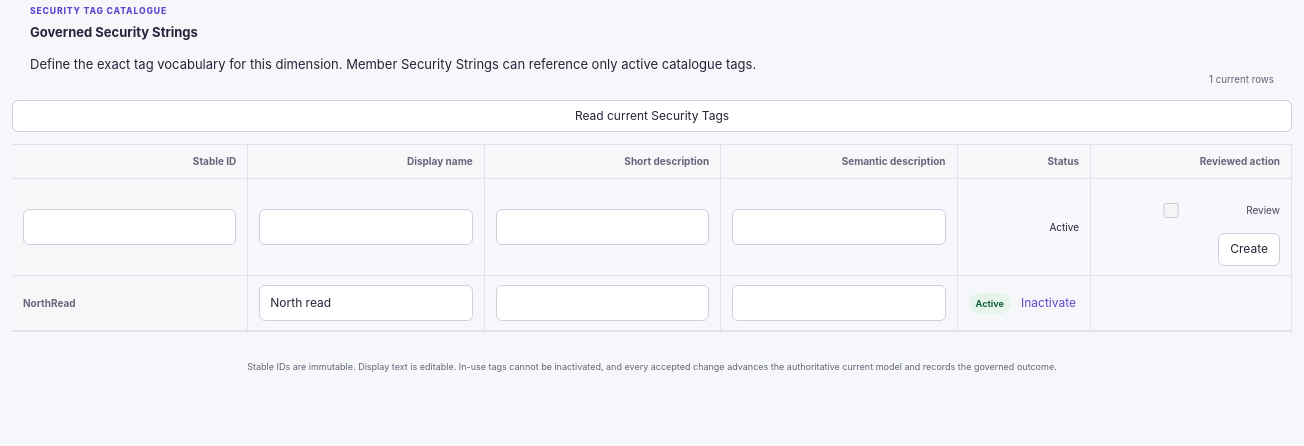
Scenario: keeps a tag active and explains a definite dependency refusal
Step 1. Click the button "Inactivate" → (1048, 303), box [1018,292,1079,314]
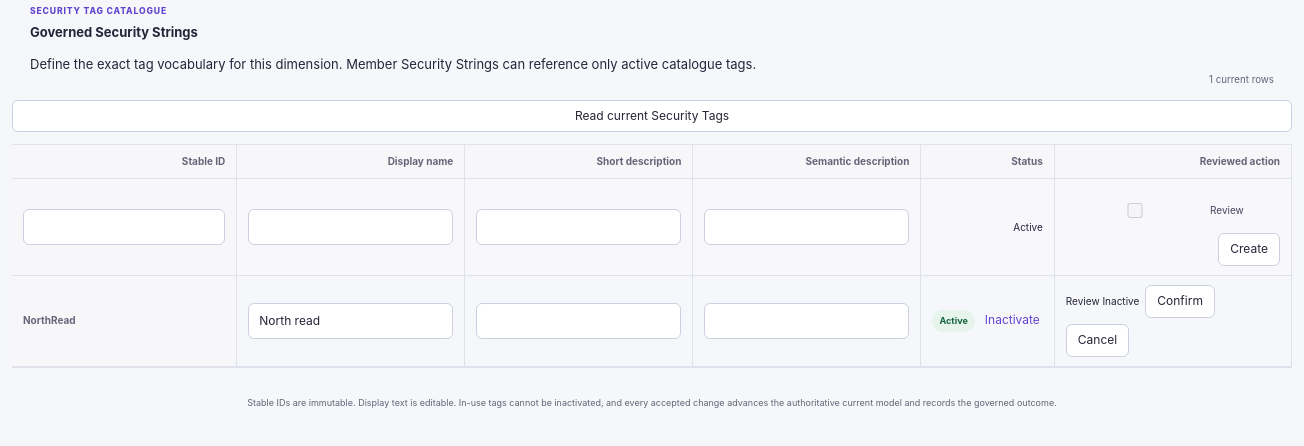
Step 2. Click the button "Confirm" → (1180, 302), box [1145,285,1215,318]
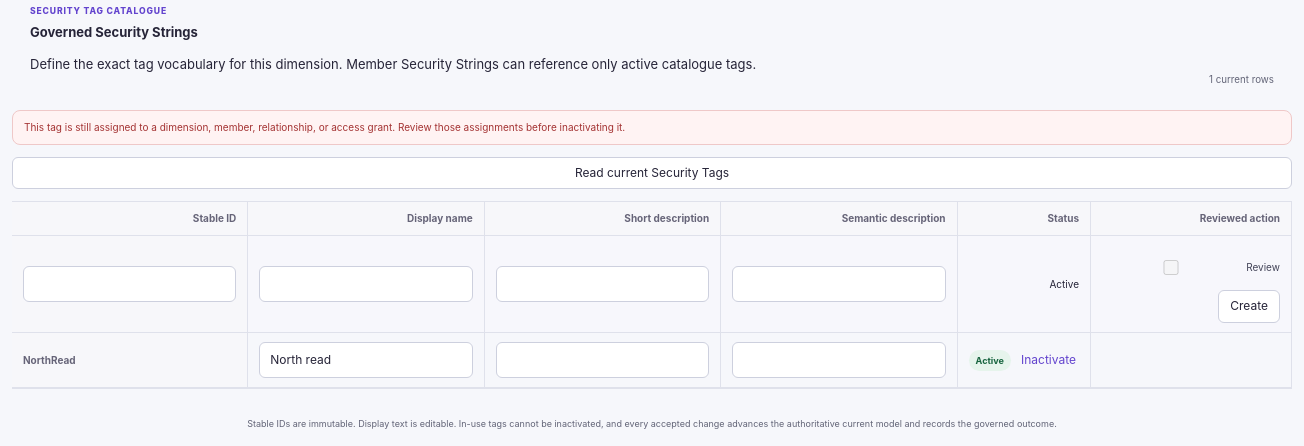
Expected: the text "Active" is shown, [969,350,1011,371]
Now the 2nd message shows "This tag is still assigned to a dimension, member, relationship, or access grant.", box [24,120,625,132]
